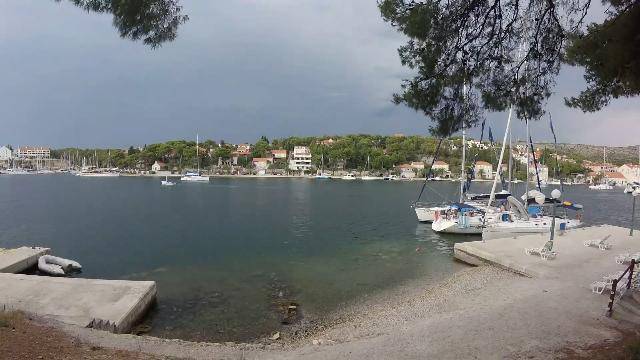Sailboat: (178, 171, 214, 183), (158, 174, 180, 188)
